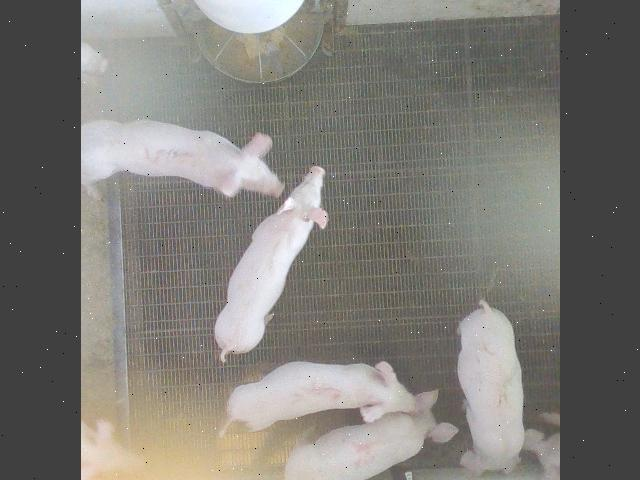pig-3: (82, 120, 282, 198)
pig-4: (285, 391, 456, 480)
pig-5: (219, 361, 420, 435)
